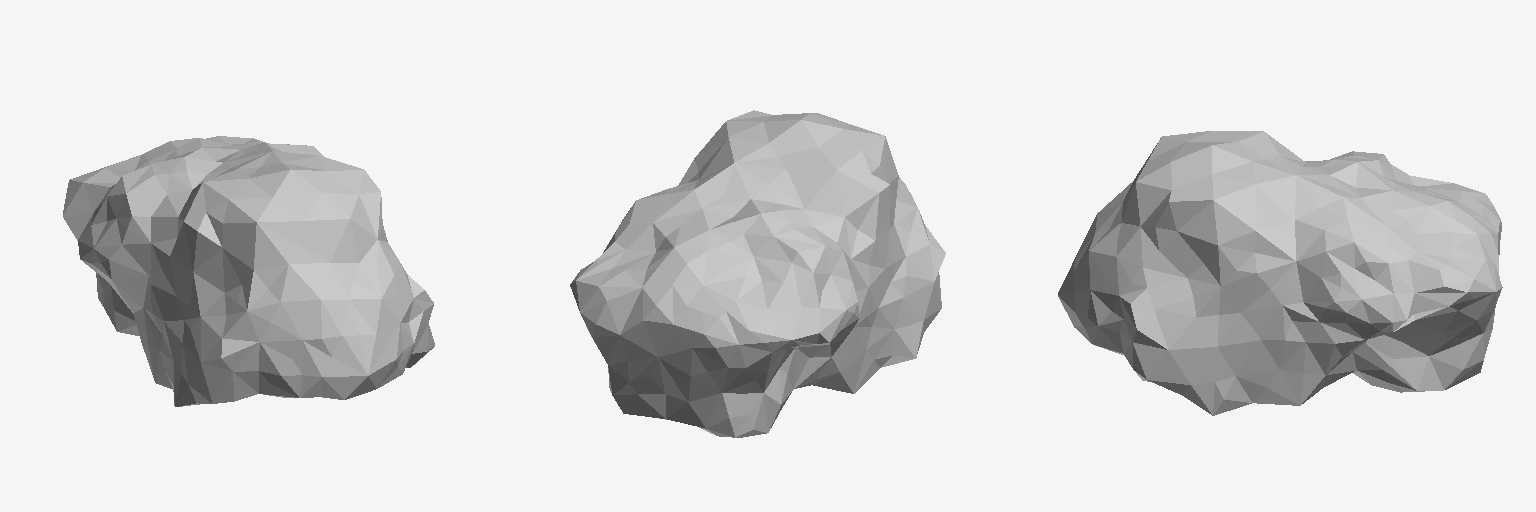
File: StaticBoulder2.obj
3 renders of one model, left to right at view 1: azimuth 30°, elevation 25°; view 2: azimuth 150°, elevation 25°; view 3: azimuth 270°, elevation 25°, orthographic.
Size of the model in its own units: 1.7 by 1.5 by 2.73.